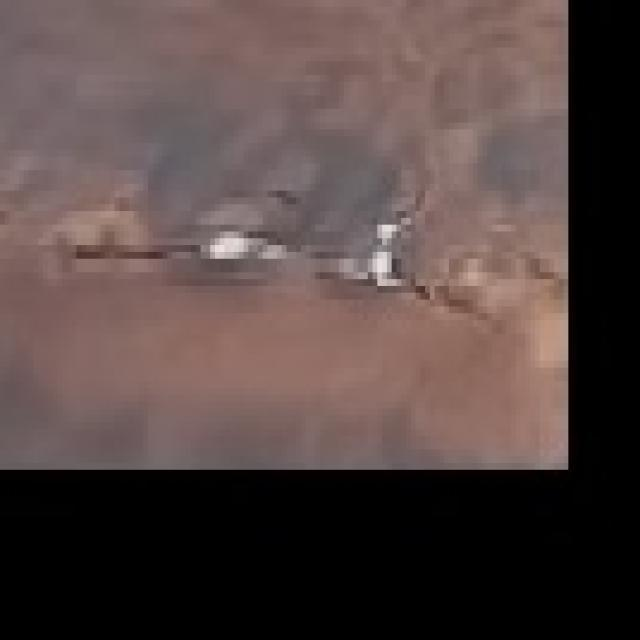crack: (48, 211, 268, 334)
